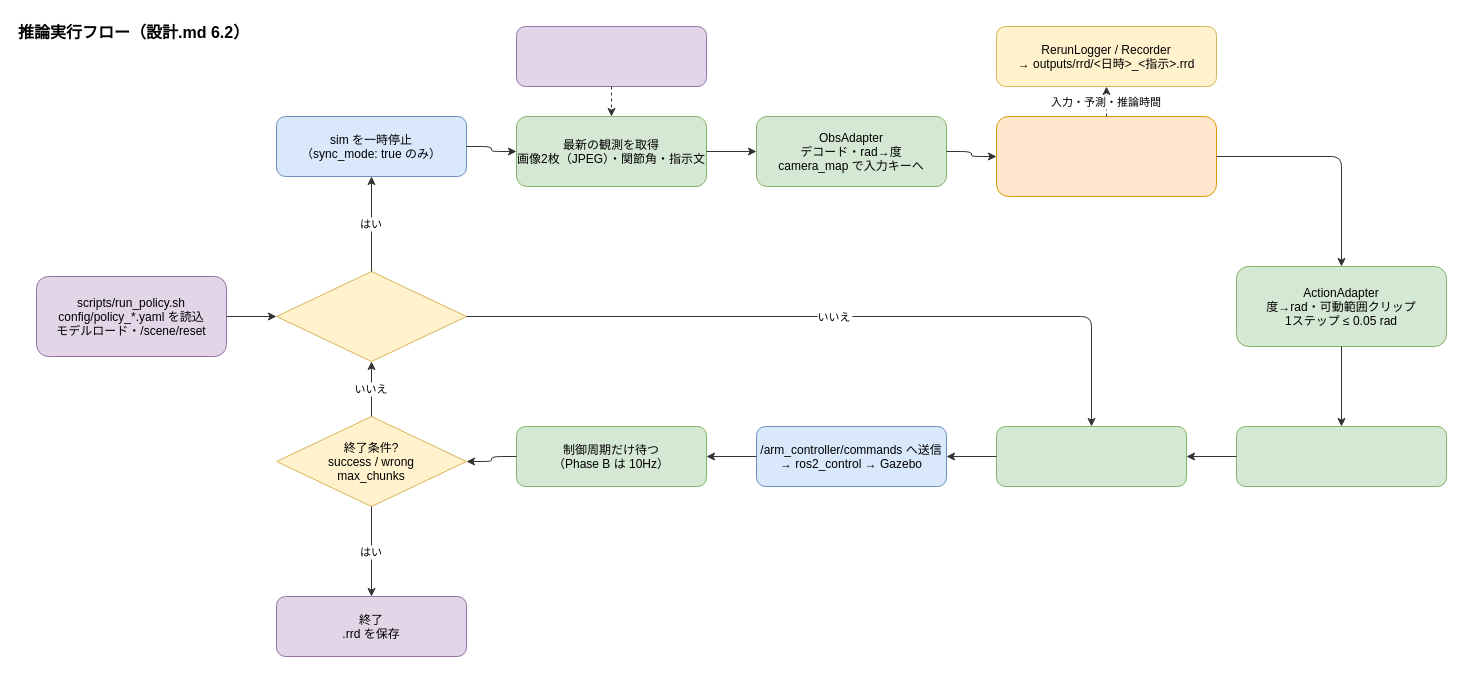
Image size: 1463x673. Some labels were removed from this diagram. The shapes that lost their labels are listed below. From the top down, each one's centre as x and y in pixels, then its label:
At (611,56): "人: /vla/instruction 'pick up the red box' （実行中も切替可）".
At (1106,156): "PolicyRunner（SmolVLA） 前処理 → 推論 → 後処理 行動チャンク（最大50ステップ）".
At (371,316): "行動キューが 空?".
At (1091,456): "キューから 1ステップ取り出す".
At (1341,456): "行動キューへ格納 sim を再開".
